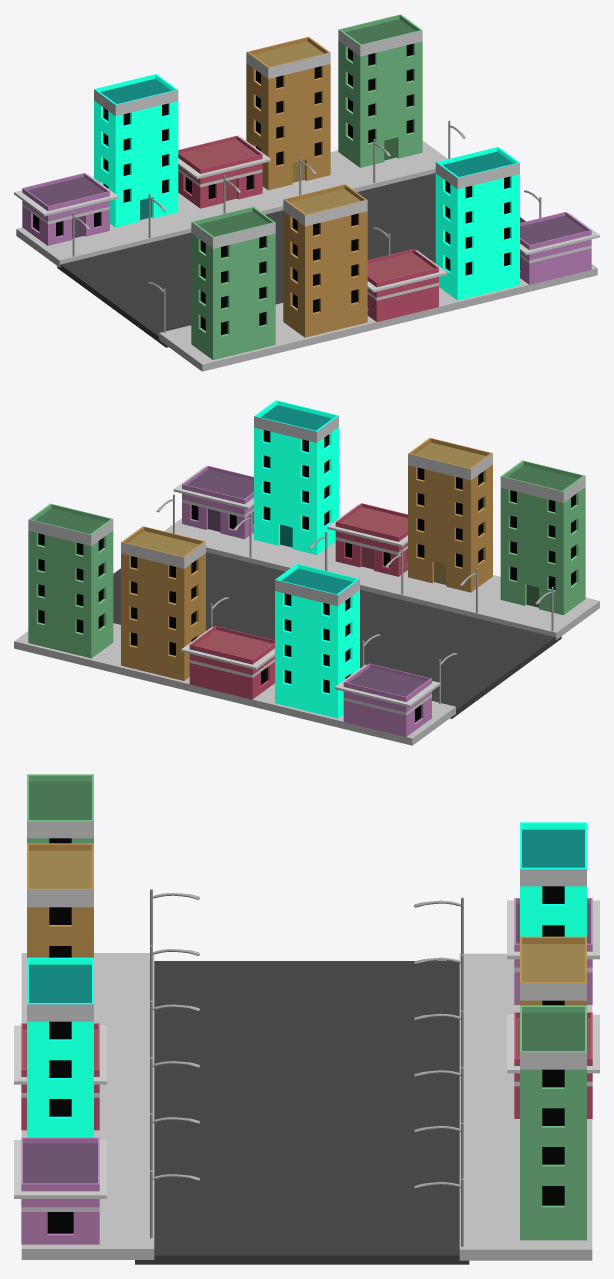
Rendered from buildings.fbx.
3 views of the same model, one above another, from view 1: azimuth 30°, elevation 25°; view 2: azimuth 150°, elevation 25°; view 3: azimuth 270°, elevation 25° (orthographic). The views are drawn at different scales.
Visible parts, largest first — view 1: Cube.002; view 2: Cube.002; view 3: Cube.002.
Boxes of the visible parts, bbox=[...] form: Cube.002: bbox=[14, 14, 599, 371]; Cube.002: bbox=[14, 400, 599, 745]; Cube.002: bbox=[14, 774, 599, 1264].
Size of the model in its own units: 5267 by 1694 by 4406.
